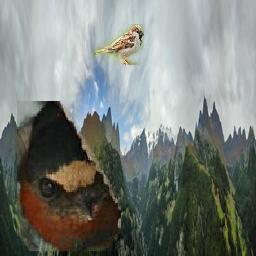Sparrow: (94, 25, 145, 66)
Swallow: (17, 101, 121, 251)
